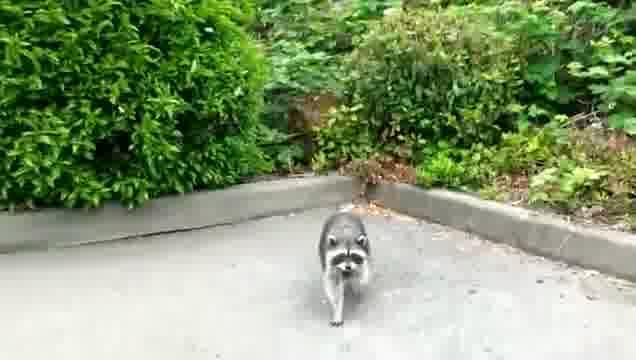raccoon: (317, 209, 373, 327)
